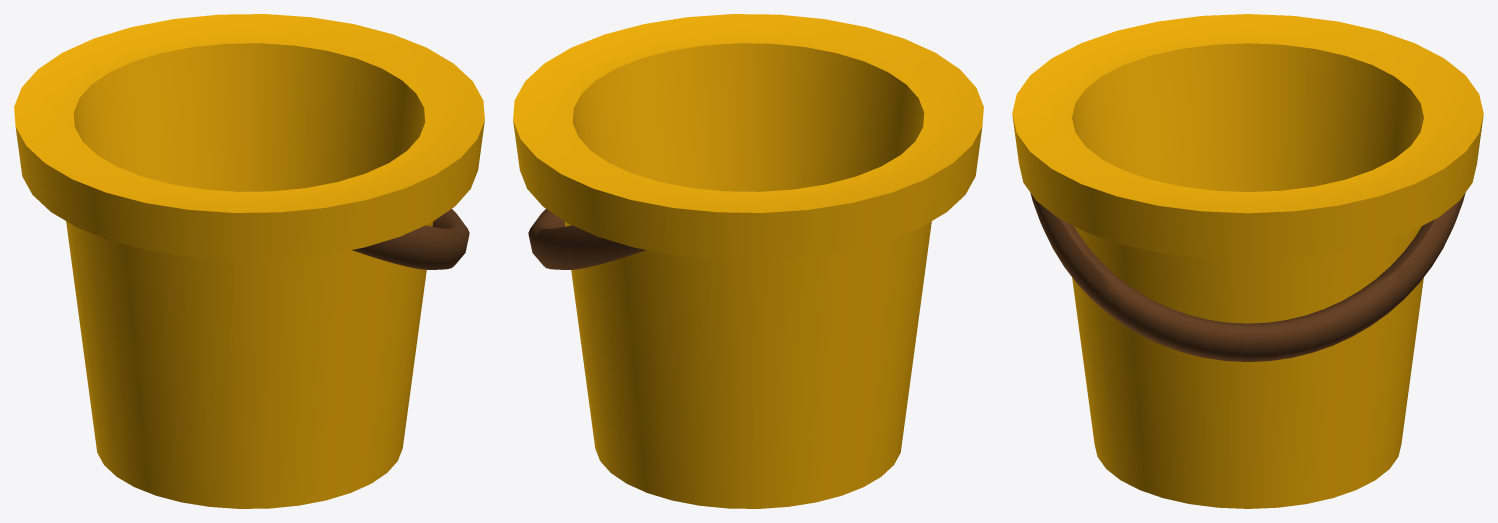
File: SM_Eimer_01002.fbx
The picture shows the model from 3 angles, left to right: view 1: azimuth 30°, elevation 25°; view 2: azimuth 150°, elevation 25°; view 3: azimuth 270°, elevation 25°; orthographic projection.
Parts seen in each view (by area): view 1: Eimer_01.004; view 2: Eimer_01.004; view 3: Eimer_01.004.
Part boxes in pixels (x1,y1,x2,y2): Eimer_01.004: (14, 14, 484, 508); Eimer_01.004: (513, 14, 983, 508); Eimer_01.004: (1012, 14, 1483, 508).
Bounding box in the file's own units: 101 × 78.13 × 101.
